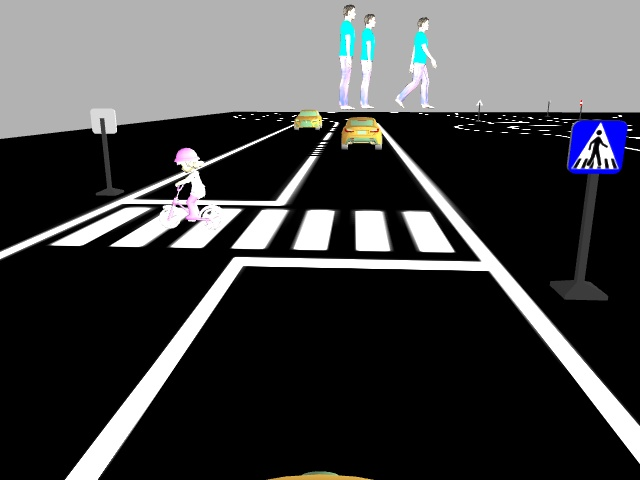Crosswalk: (566, 120, 628, 174)
Pedestrian: (157, 145, 228, 230)
